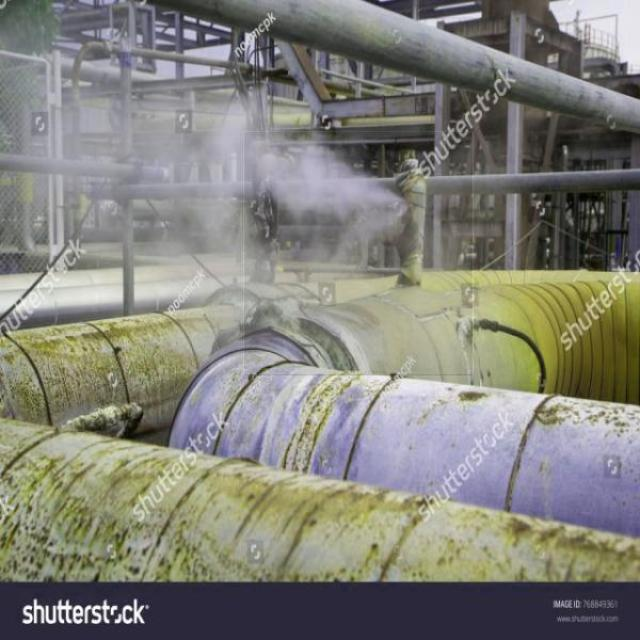corrosion: (244, 132, 473, 375)
